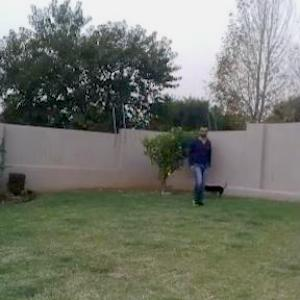follow: (186, 121, 212, 208)
